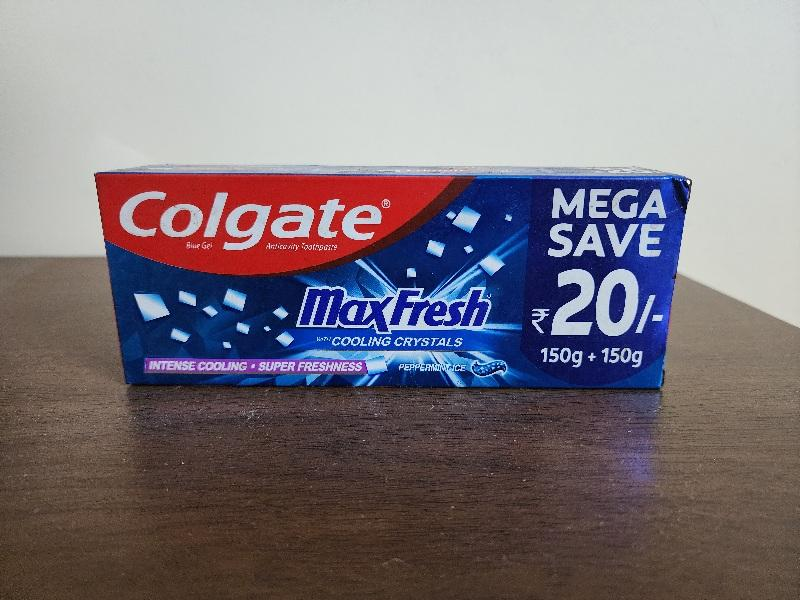Colgate: (91, 168, 694, 391)
